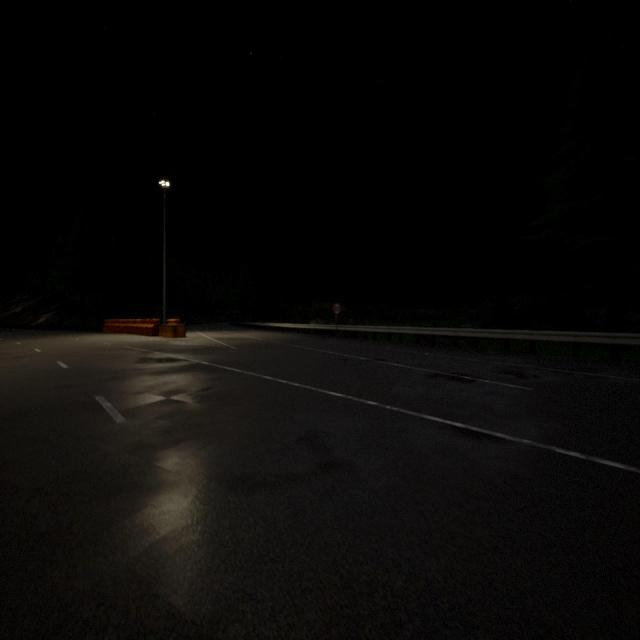Traffic_Signs: (332, 303, 341, 313)
